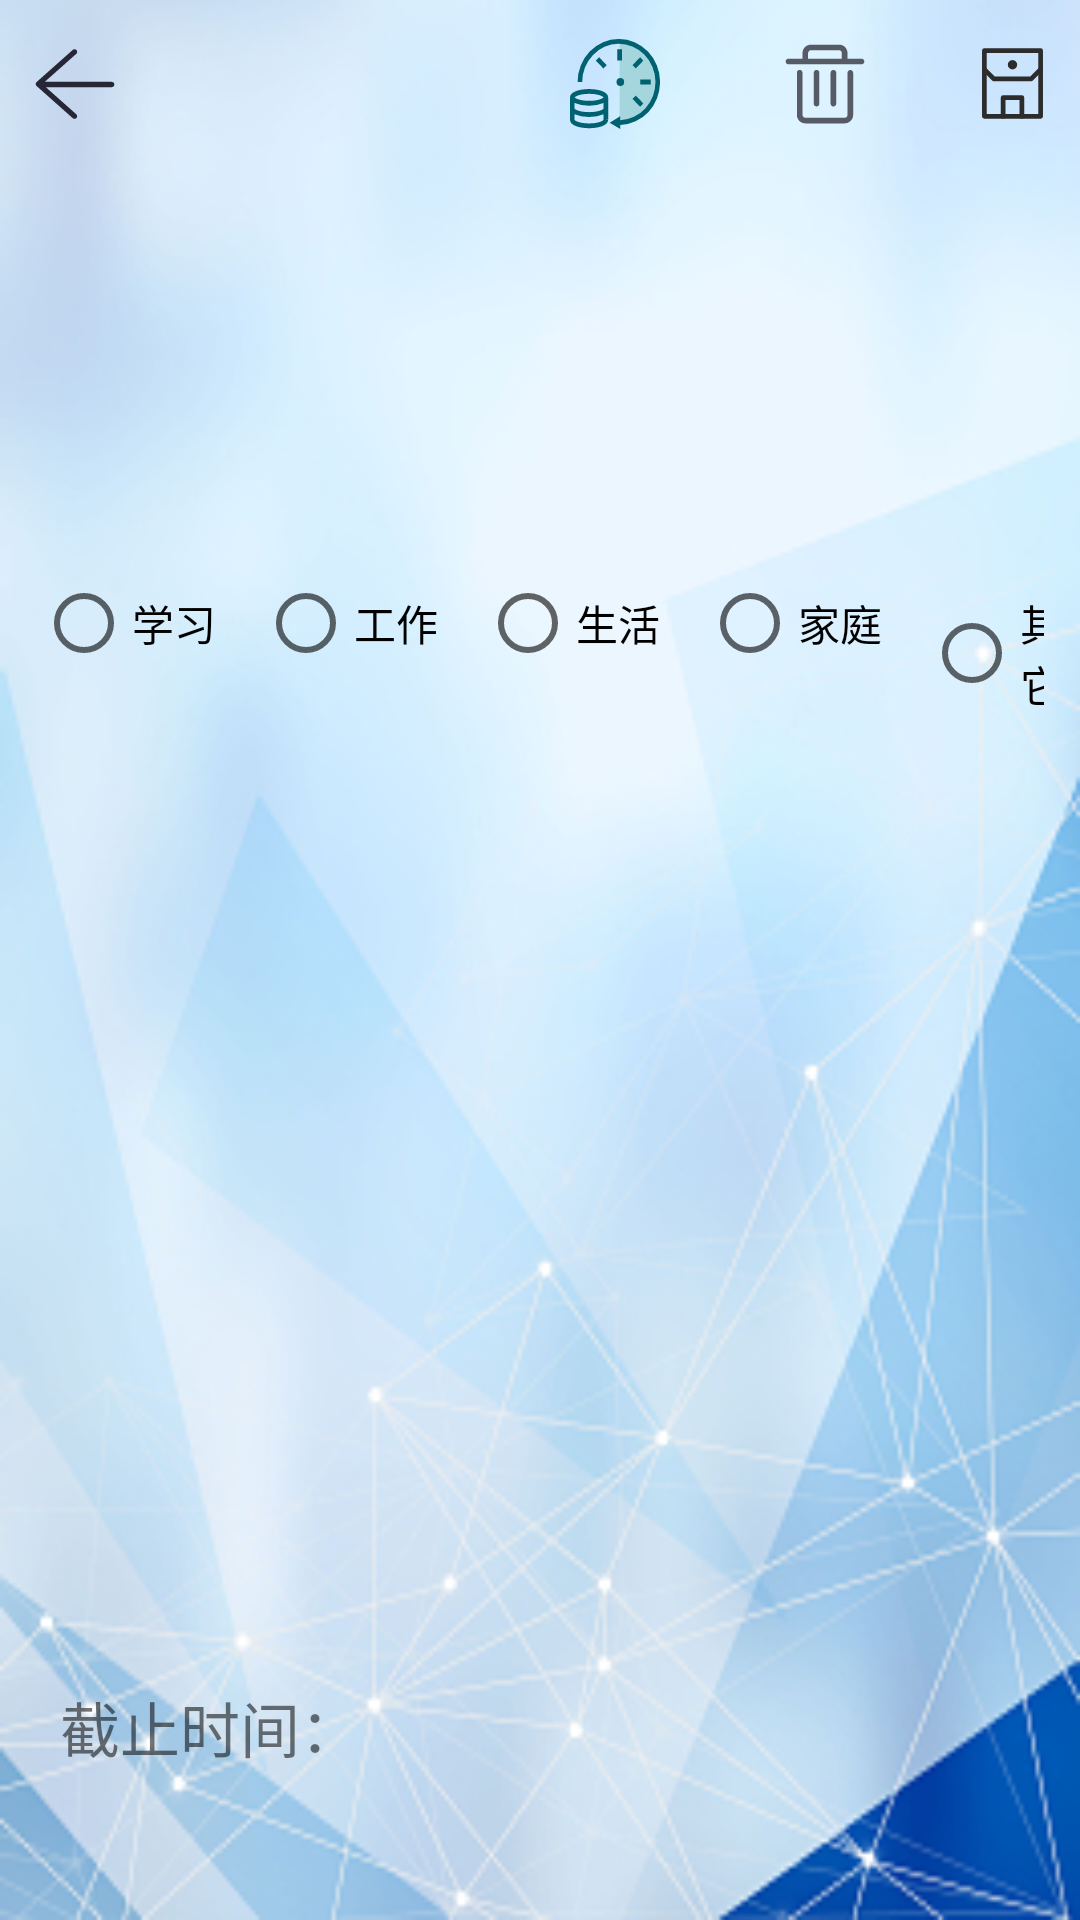

Icon bounding boxes for this 1080px×1920px phone screenshot, format bbox(x1, y1, x2, y2):
back: bbox(35, 49, 115, 119)
delete: bbox(785, 44, 865, 124)
save: bbox(982, 48, 1043, 119)
tomatotime: bbox(570, 39, 660, 129)
